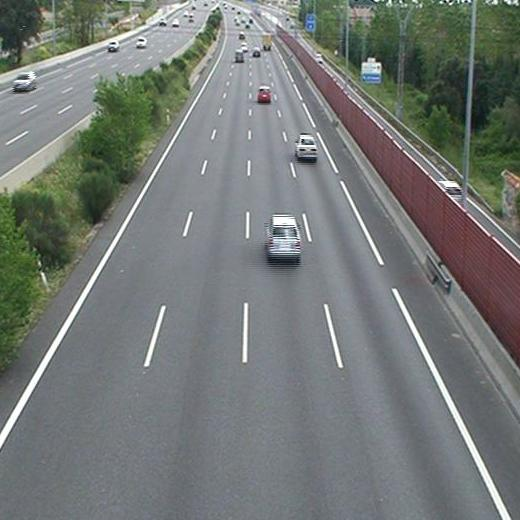car: (266, 216, 300, 258), (295, 135, 318, 158), (257, 86, 271, 102), (234, 51, 244, 63), (251, 47, 261, 56)
